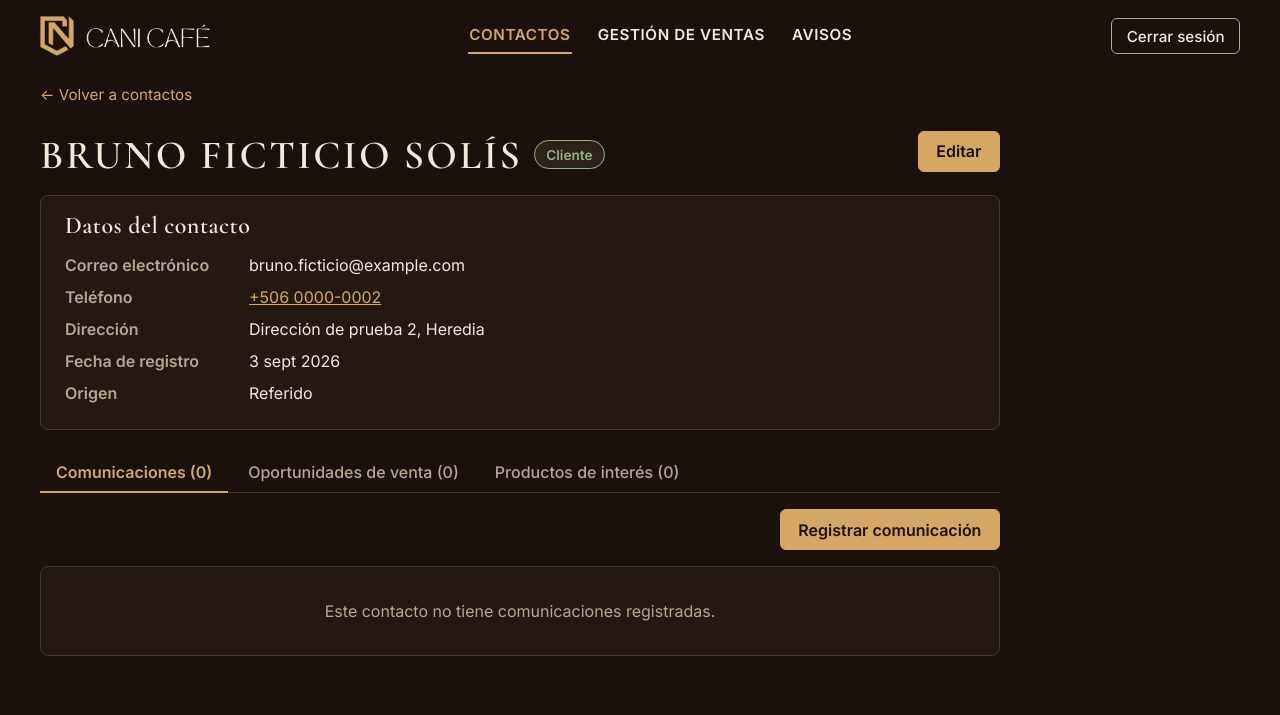
Scenario: HU-210 Editar un contacto › criterio 3: formato del correo y largo del teléfono (8 en Costa Rica)
Click the button "Editar" at (959, 151), box [918, 131, 1000, 172]
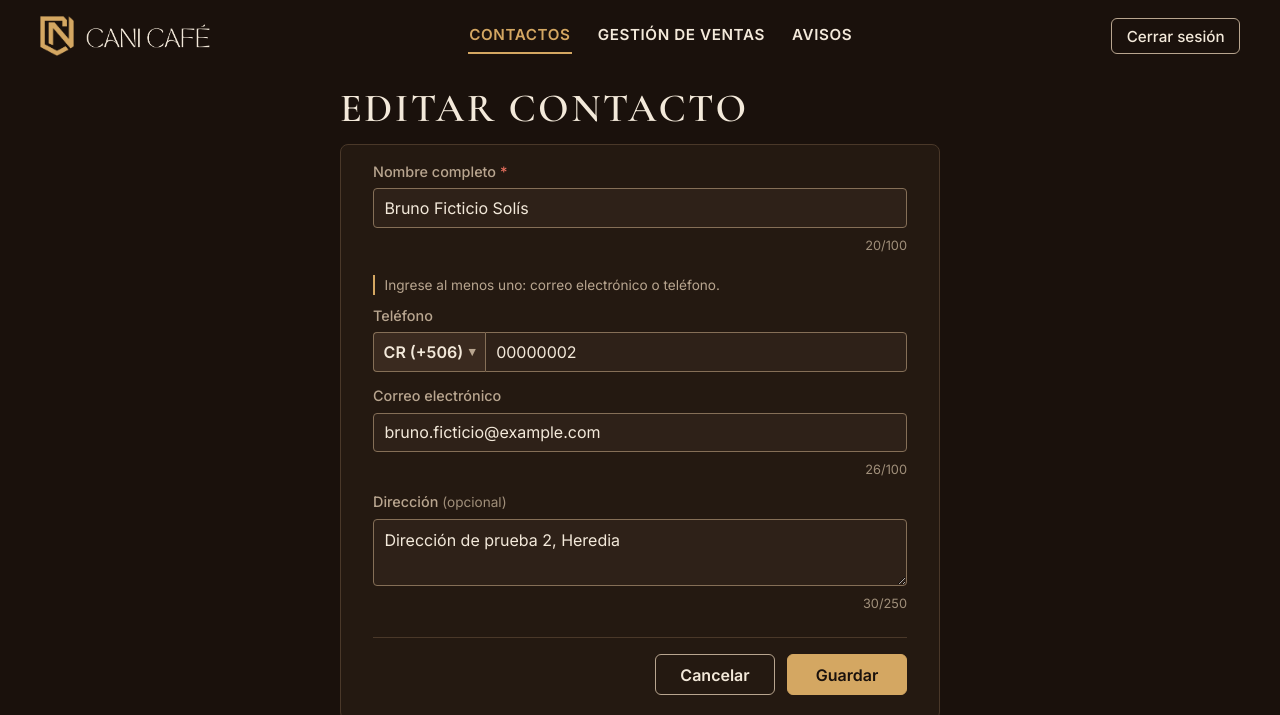
Expected: the heading "Editar contacto" is shown, [340, 84, 748, 132]
Replace the text in the field labelled "Correo electrónico" with "bruno@dominio" at (640, 432), box [373, 412, 907, 452]
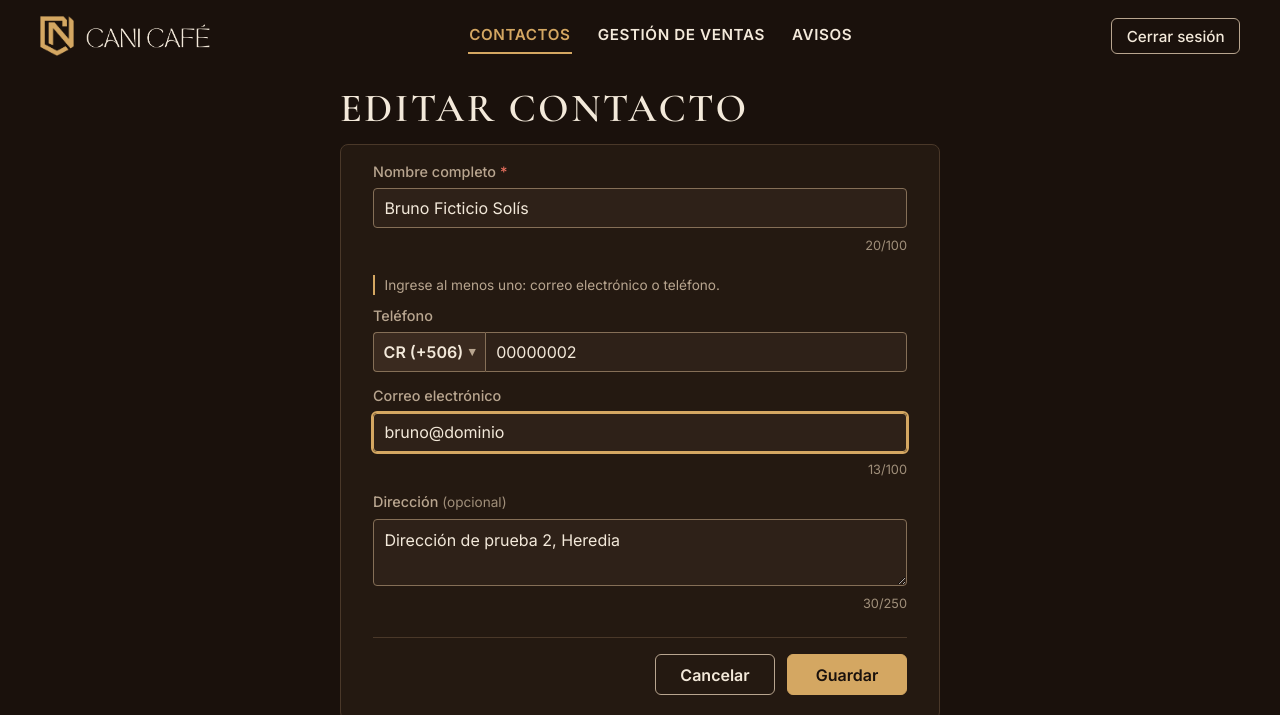
Replace the text in the field labelled "Teléfono" with "8812345" at (696, 352), box [485, 332, 907, 372]
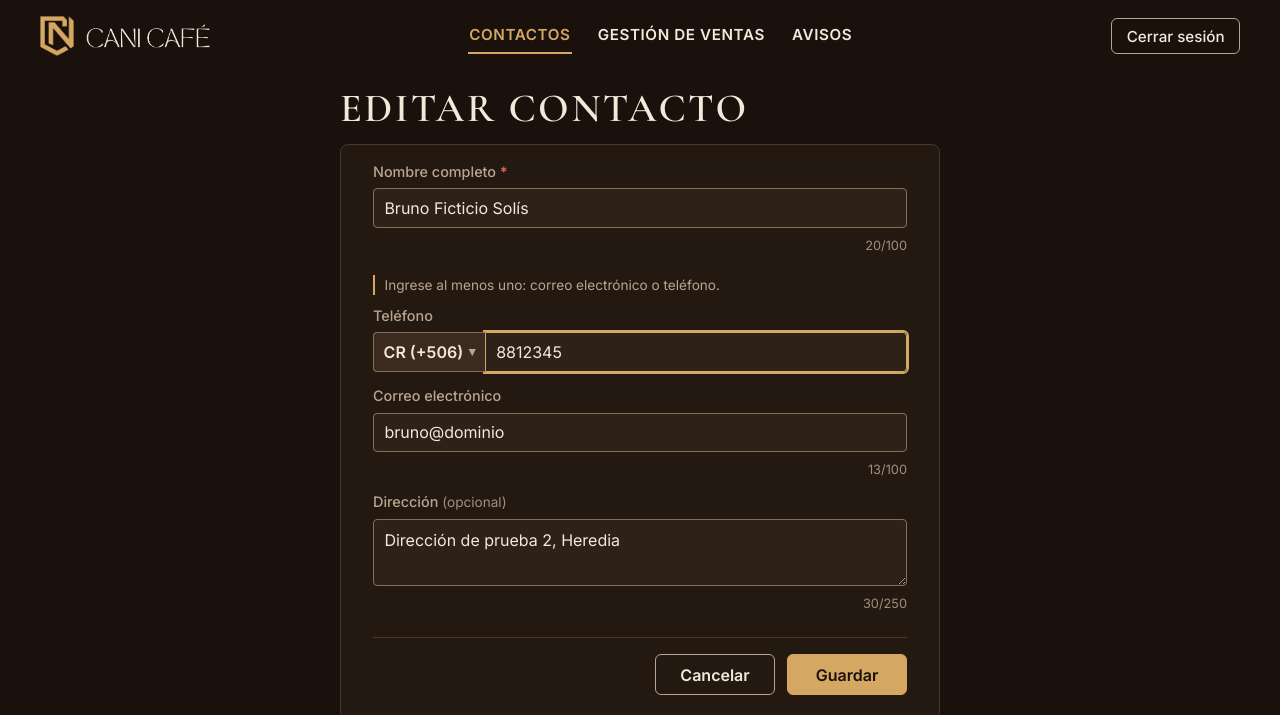
Click the button "Guardar" at (847, 675), box [787, 654, 907, 696]
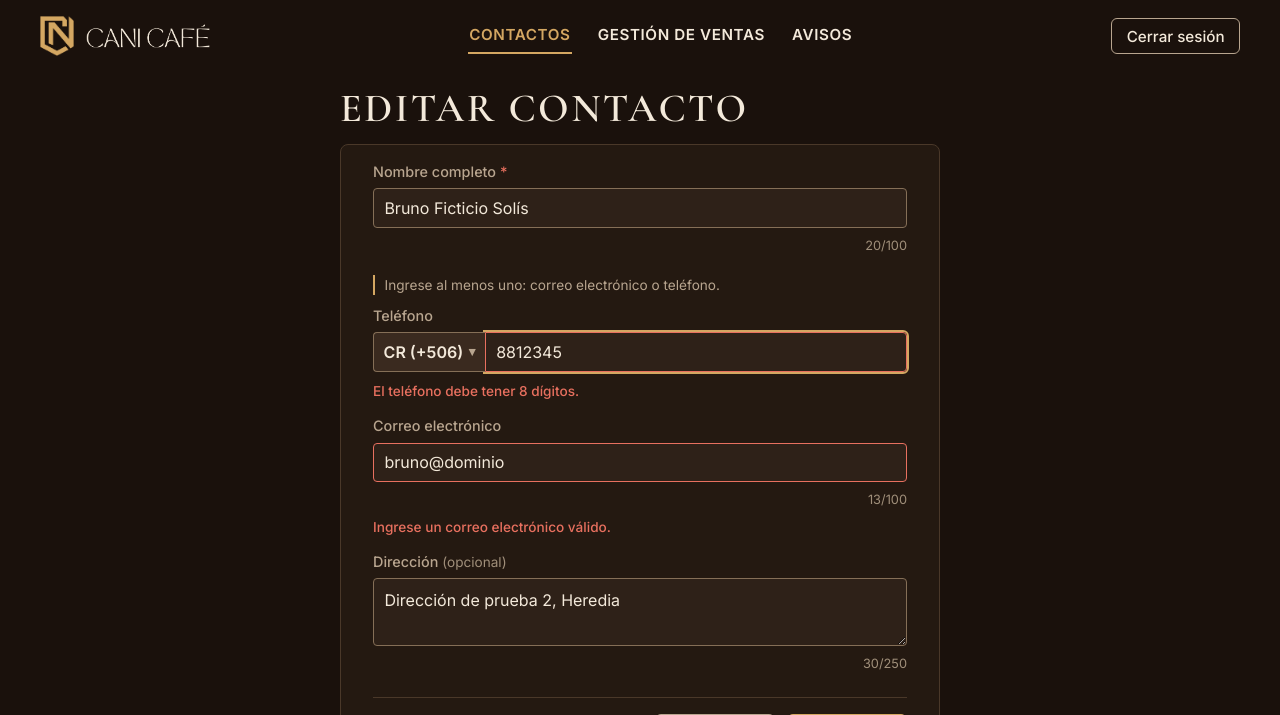
Expected: the message "Ingrese un correo electrónico válido." is shown, [373, 519, 611, 535]
